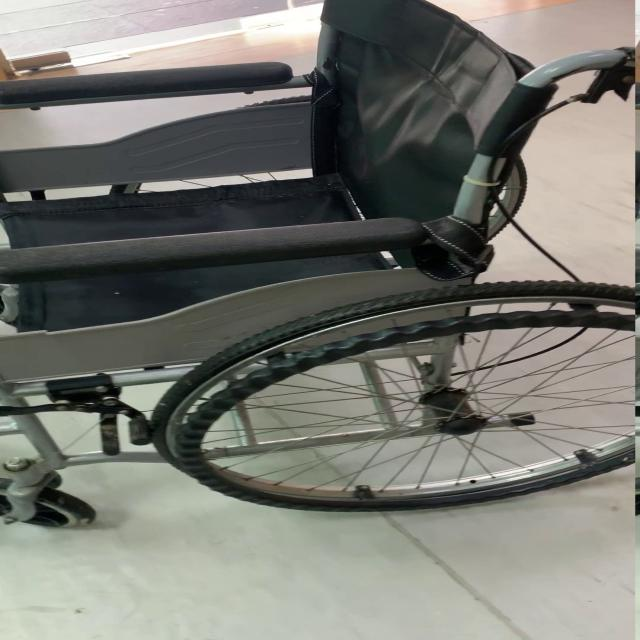wheelchair: (1, 0, 639, 546)
